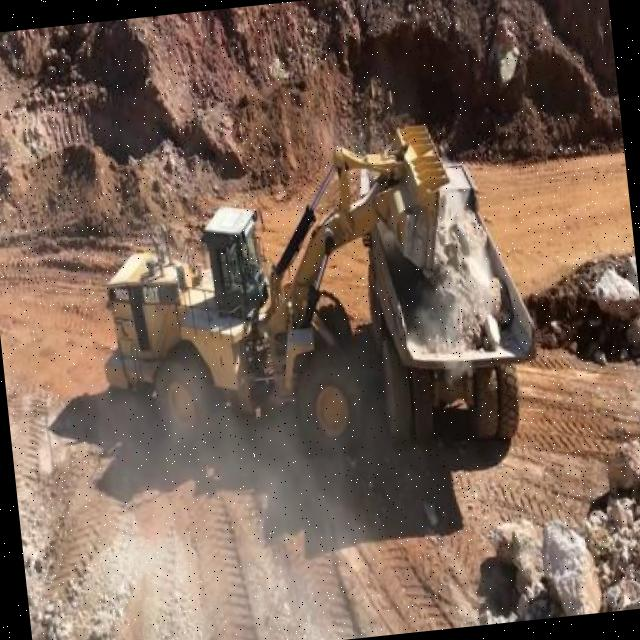Dump Truck: (359, 150, 546, 446)
Loader: (81, 122, 475, 483)
